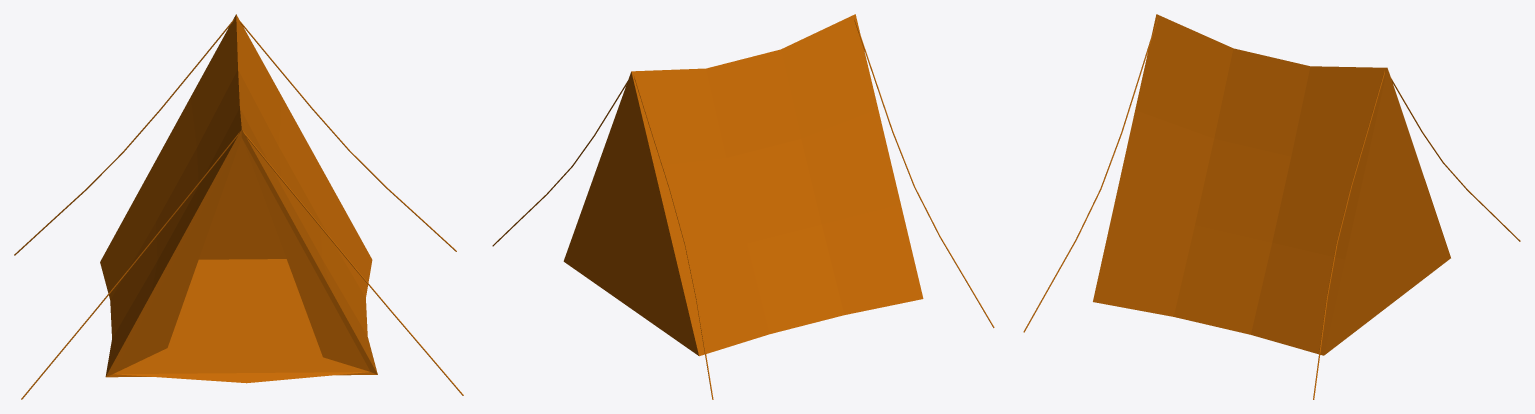
The model's file is Carpa.fbx.
3 views of the same model, side by side, from view 1: azimuth 30°, elevation 25°; view 2: azimuth 150°, elevation 25°; view 3: azimuth 270°, elevation 25° (orthographic). The views are drawn at different scales.
Parts seen in each view (by area): view 1: Carpa; view 2: Carpa; view 3: Carpa.
Boxes of the visible parts, x1,y1,x2,y2 form: Carpa: (14,14,463,399); Carpa: (492,14,994,399); Carpa: (1023,14,1520,399).
Size of the model in its own units: 1569 by 796 by 1457.
